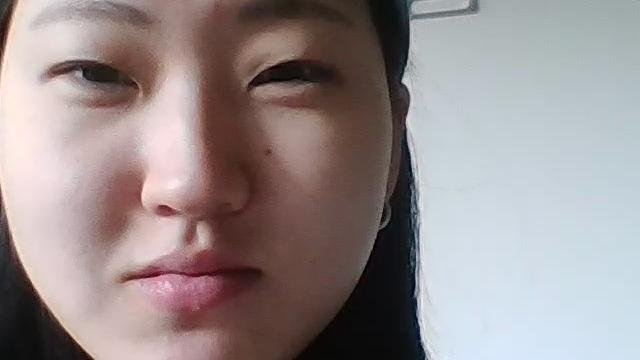eye: (267, 59, 301, 88), (82, 59, 116, 86)
iris: (61, 62, 141, 86), (251, 62, 320, 84)
